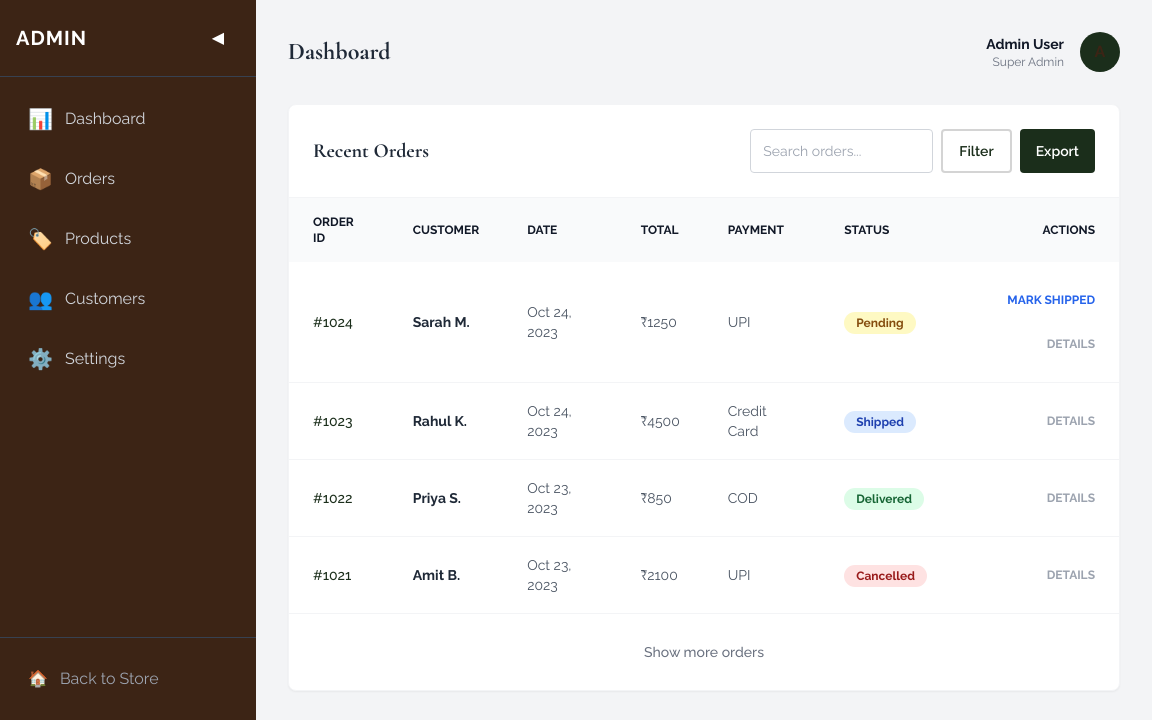
Scenario: OrderList › updates status when Mark Shipped is clicked
// Find the button for a pending order
Click the button "Mark Shipped" at (1051, 300), box 1007,278 -> 1095,322
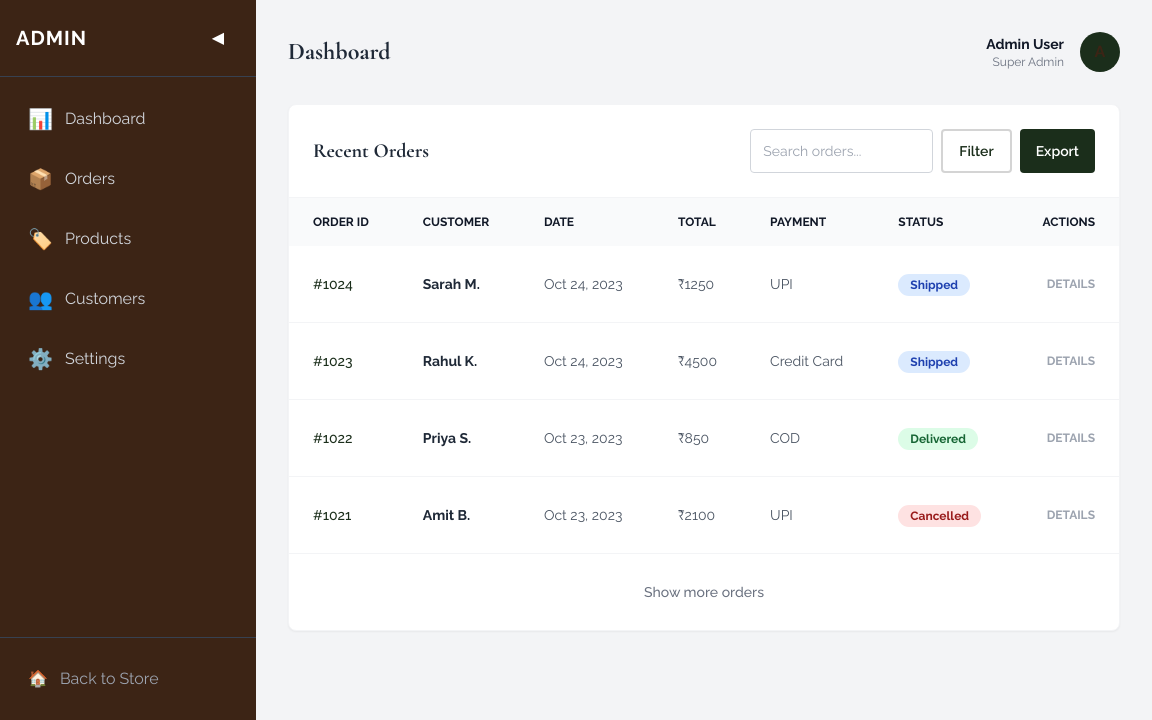
Result: the button "Mark Shipped" is gone
Result: the text "Shipped" in the row of "#1024" is shown at 910,278 -> 958,292
